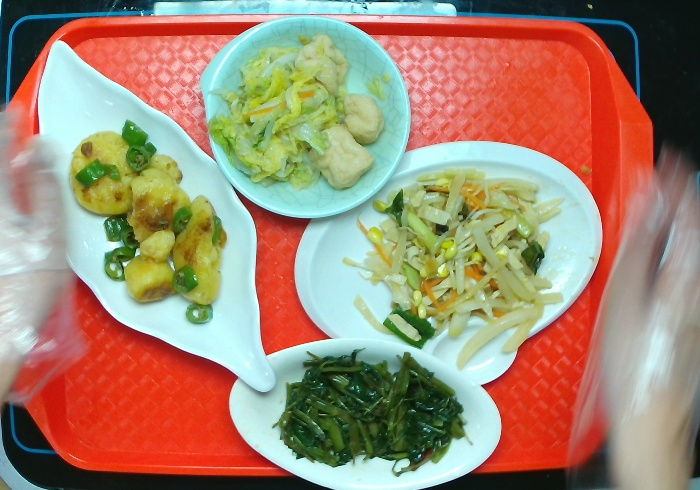RJxy-Bai_Se_Tuo_Yuan: (220, 331, 505, 487)
RJxy-Shu_Ye_Pan: (26, 35, 283, 395)
RJxy-Xiao_Jiao_Yuan_Wan: (199, 12, 416, 224)
RJxy-Zhan_Liao_Pan: (286, 133, 605, 390)
